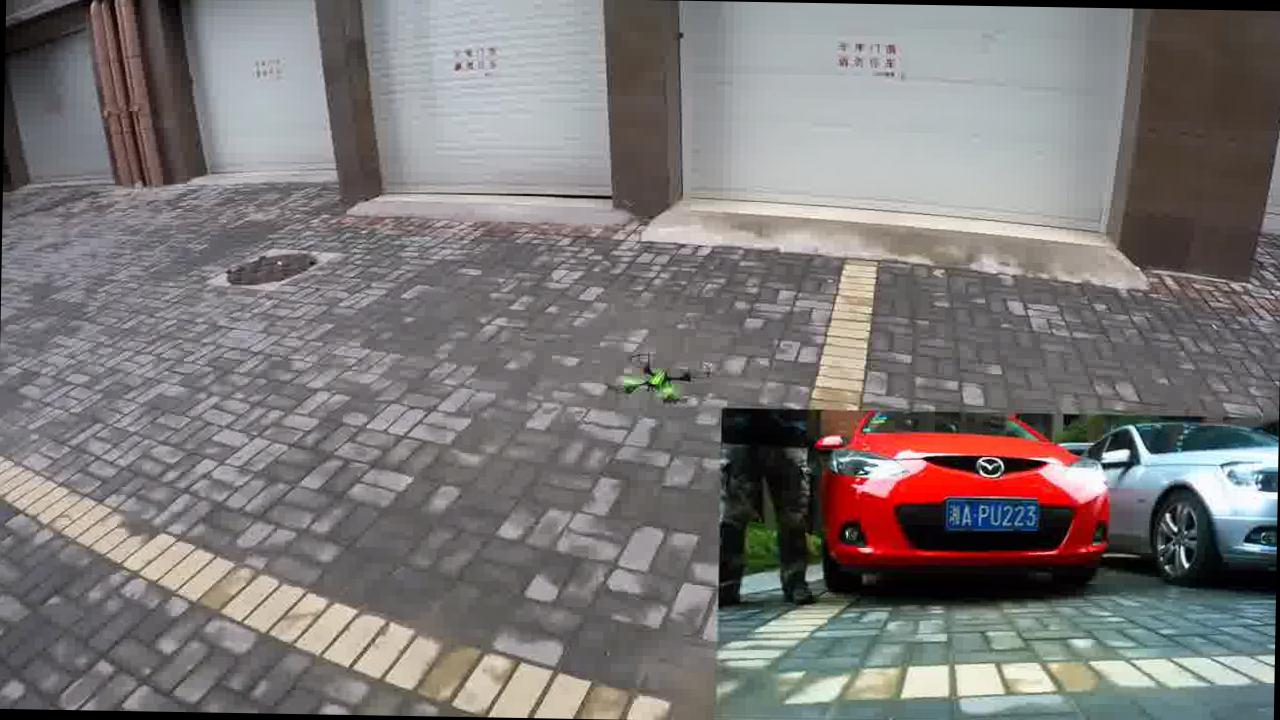drone: (606, 346, 713, 406)
